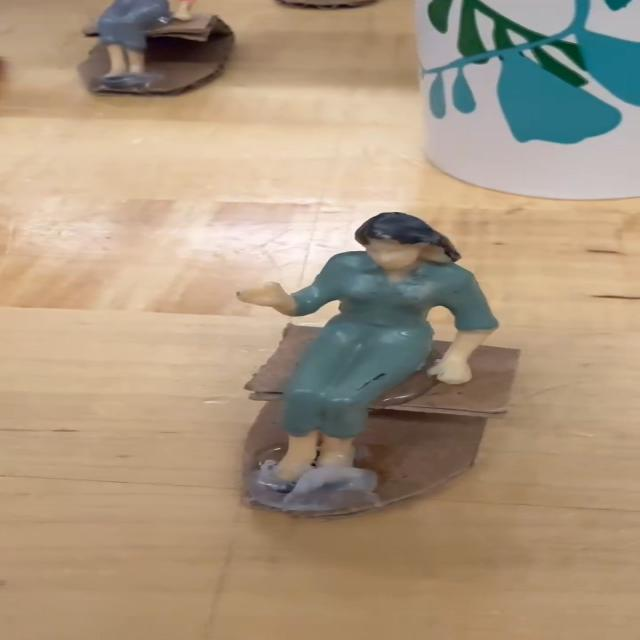Authorized: (206, 215, 545, 540)
